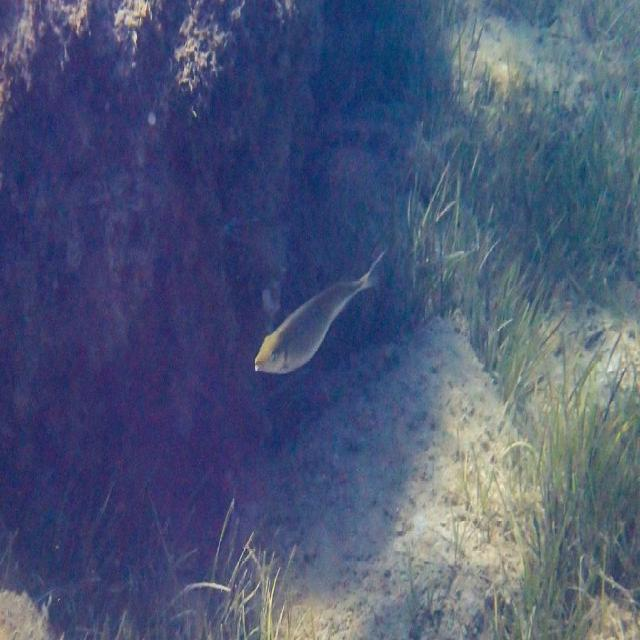Sokar Baligi: (242, 224, 396, 400)
